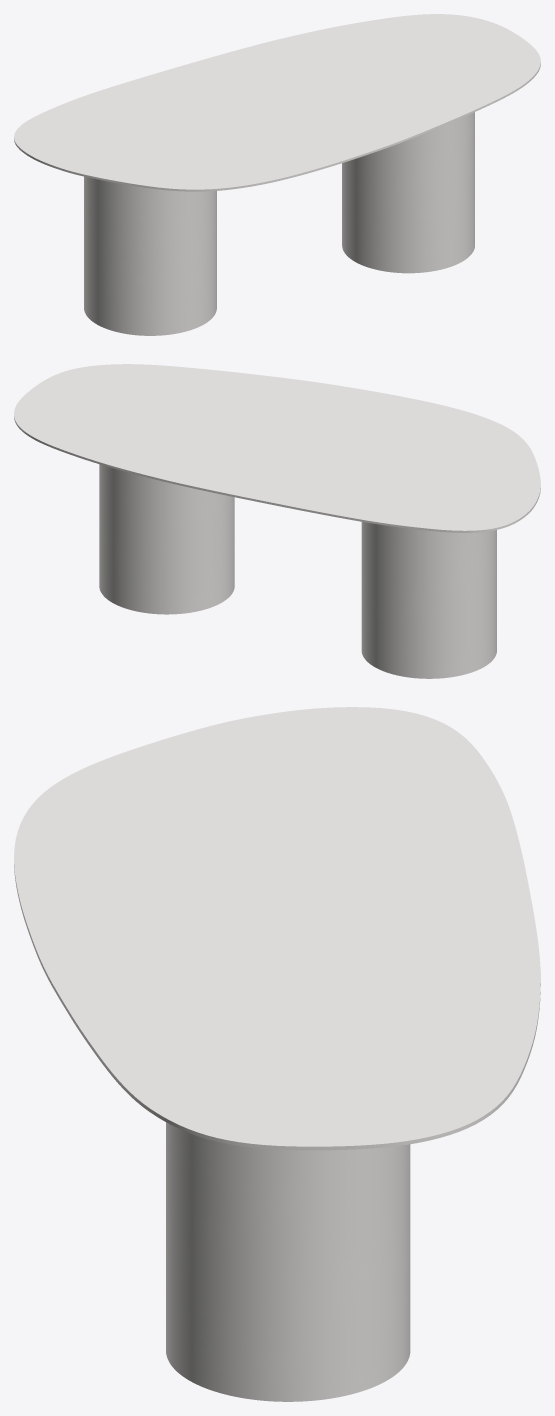
The model's file is purewhite_leaf2_facet_stream.glb.
3 views of the same model, one above another, from view 1: azimuth 30°, elevation 25°; view 2: azimuth 150°, elevation 25°; view 3: azimuth 270°, elevation 25° (orthographic). The views are drawn at different scales.
Visible parts, largest first — view 1: facet_leaf2, stream; view 2: facet_leaf2, stream; view 3: facet_leaf2, stream.
Boxes of the visible parts, <box> form: facet_leaf2: <box>14,14,540,191</box>; stream: <box>84,112,474,335</box>; facet_leaf2: <box>14,364,540,532</box>; stream: <box>99,464,496,678</box>; facet_leaf2: <box>14,707,540,1150</box>; stream: <box>166,1122,410,1401</box>.
Size of the model in its own units: 7.5 by 2.5 by 3.8.
1 material, 1 textured.
